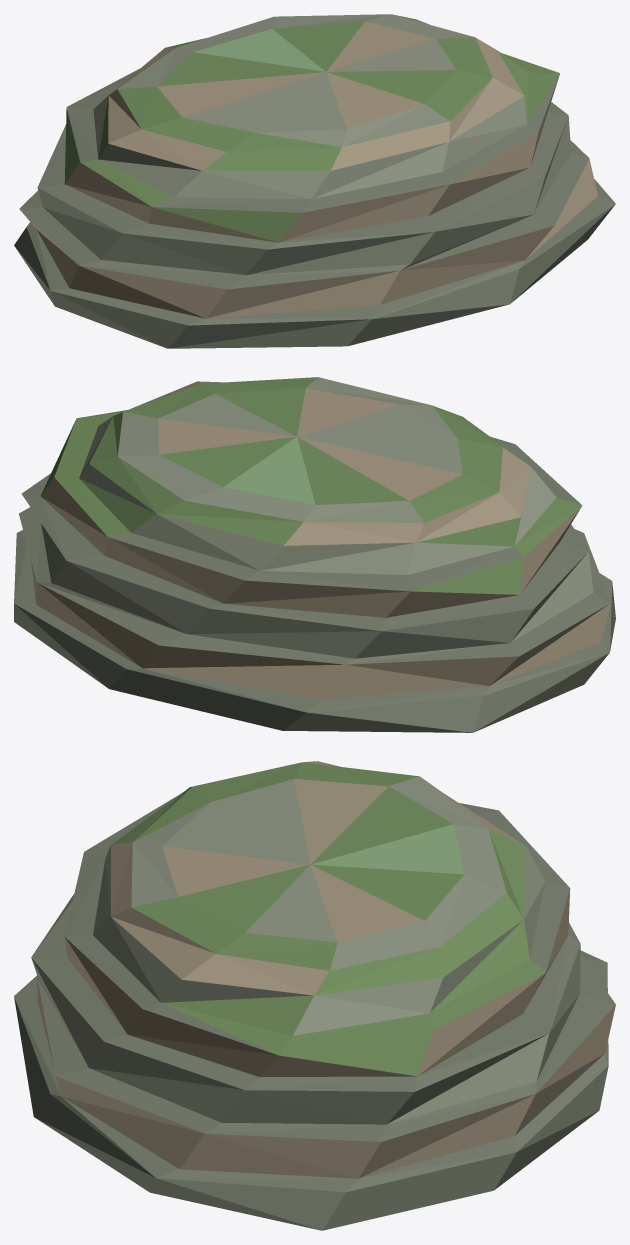
The model's file is rock_c.glb.
The picture shows the model from 3 angles, top to bottom: view 1: azimuth 30°, elevation 25°; view 2: azimuth 150°, elevation 25°; view 3: azimuth 270°, elevation 25°; orthographic projection. The views are drawn at different scales.
Visible parts, largest first — view 1: rock_c; view 2: rock_c; view 3: rock_c.
Part boxes in pixels (x1,y1,x2,y2): rock_c: [14, 14, 615, 348]; rock_c: [14, 377, 615, 732]; rock_c: [14, 761, 615, 1230].
Bounding box in the file's own units: 2.8 × 0.825 × 2.16.
